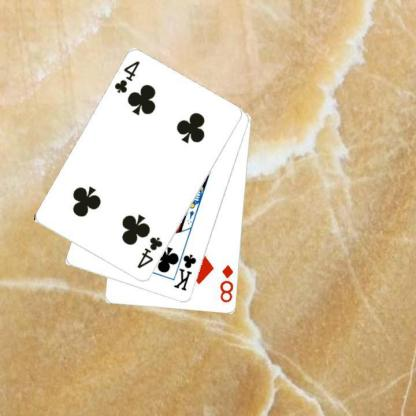4C: (112, 58, 141, 95), (135, 234, 164, 270)
8D: (217, 262, 235, 304)
KC: (169, 246, 198, 292)
